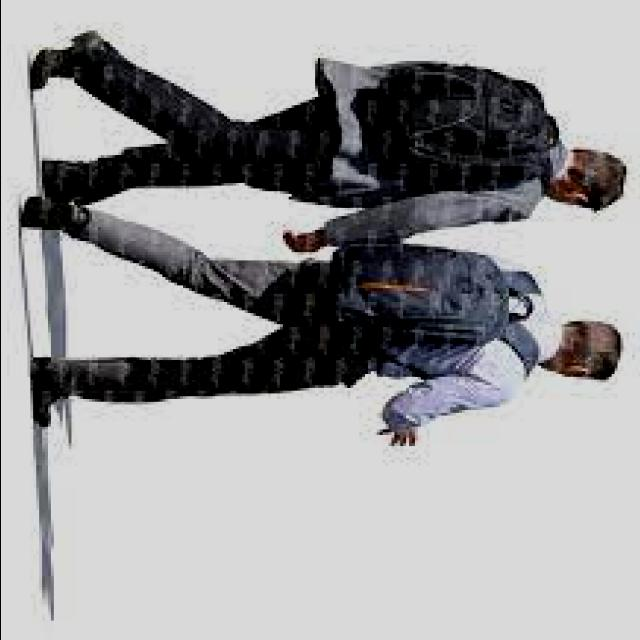backpack: (333, 239, 545, 381), (367, 58, 567, 197)
